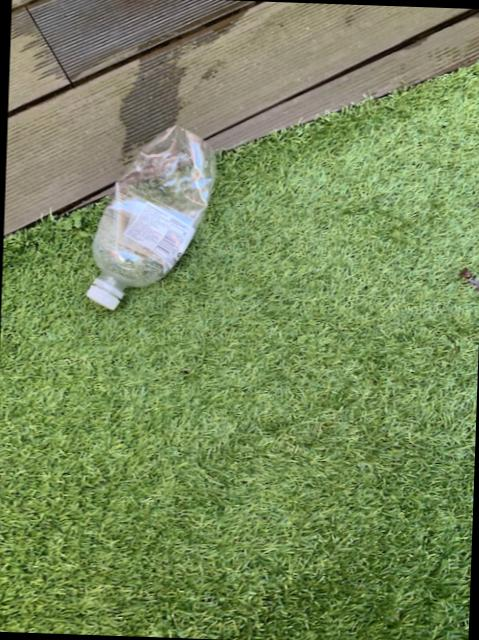plastic: (88, 124, 215, 307)
